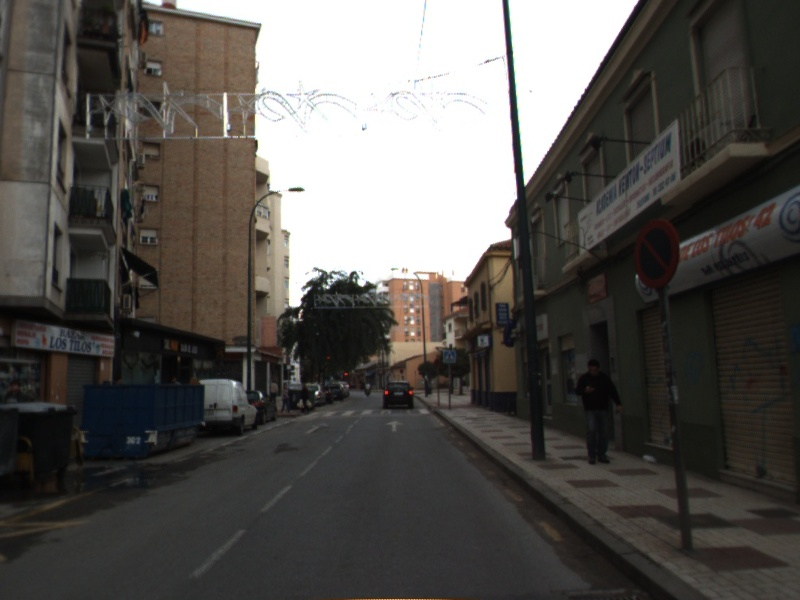STRAIGHT: (302, 420, 331, 436), (383, 419, 406, 434)
